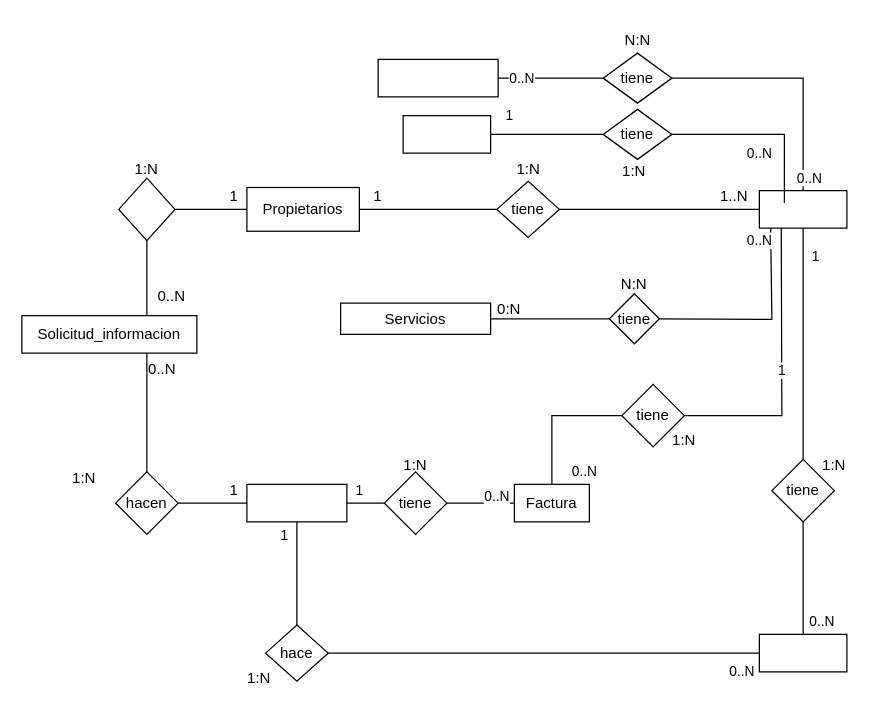
Image size: 894x718. Some labels were removed from this diagram. Each missing label, with the centre of its shape:
Casa: the point at 802,208
Equipamiento: the point at 437,77
Imagen: the point at 446,133
leen: the point at 146,209
Reserva: the point at 802,652
Usuario: the point at 296,502
